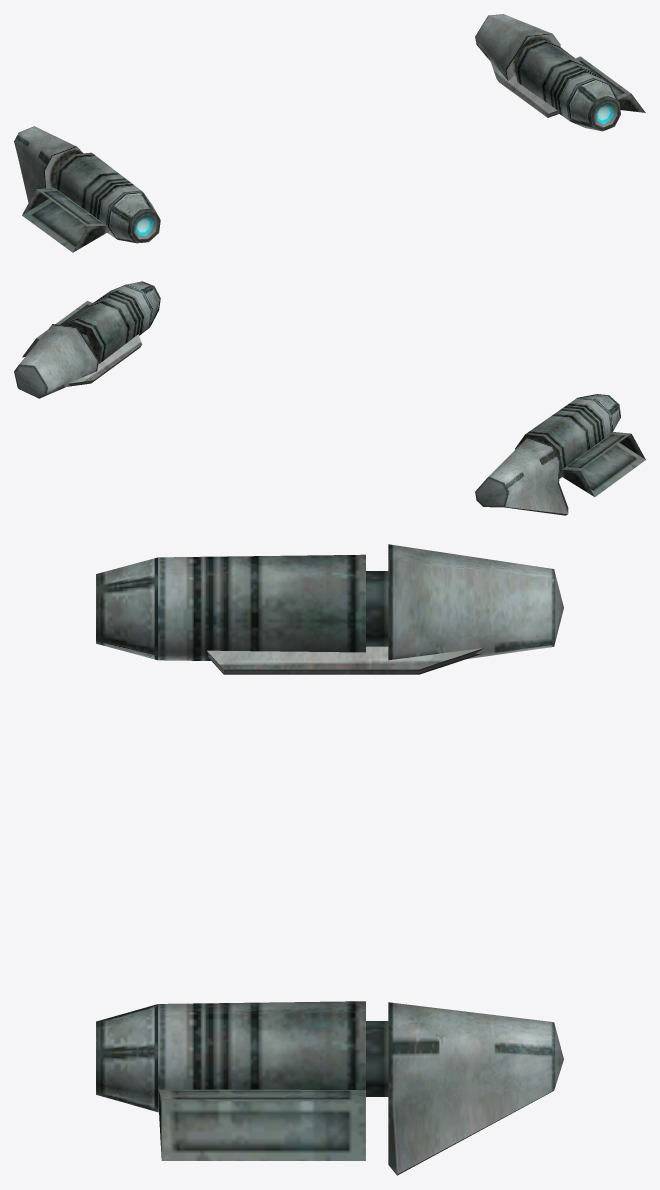
File: black_sun_fighter_heavy_weapon2_s02_l0.fbx
The picture shows the model from 3 angles, top to bottom: view 1: azimuth 30°, elevation 25°; view 2: azimuth 150°, elevation 25°; view 3: azimuth 270°, elevation 25°; orthographic projection. The views are drawn at different scales.
Visible parts, largest first — view 1: mesh_node; view 2: mesh_node; view 3: mesh_node.
Part boxes in pixels (x1=…): mesh_node: x1=14, y1=14, x2=645, y2=252; mesh_node: x1=14, y1=281, x2=645, y2=515; mesh_node: x1=96, y1=544, x2=563, y2=1175.
Bounding box in the file's own units: 5.43 × 0.611 × 1.92.
1 material, 1 textured.
